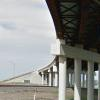Bridge: (18, 6, 89, 85)
